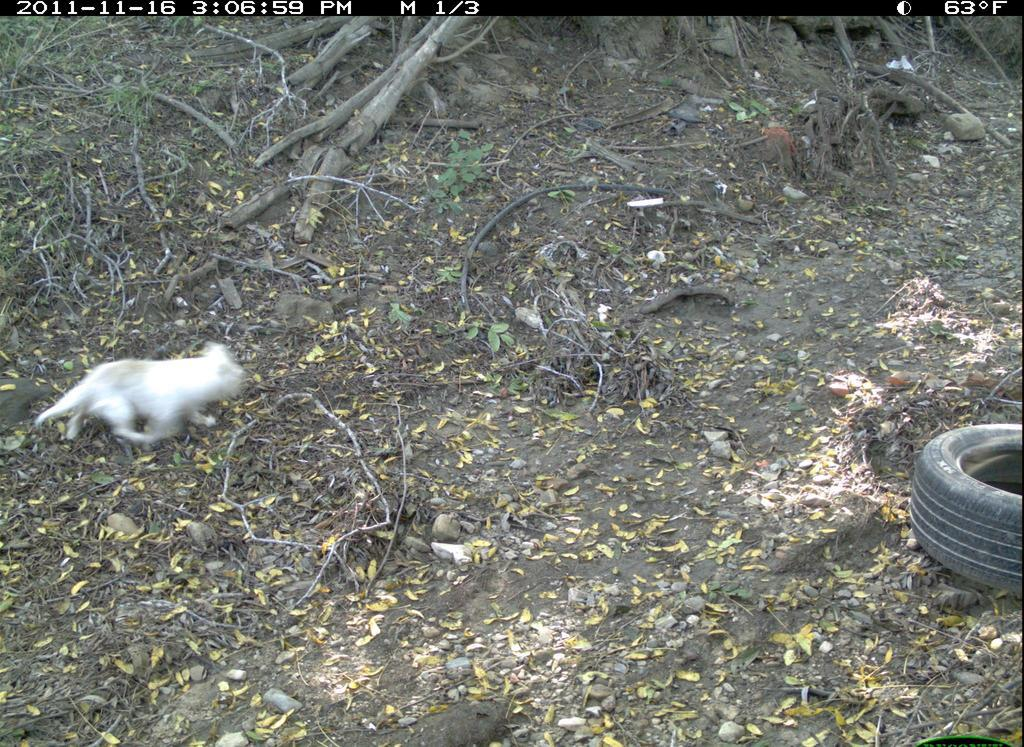dog: (26, 335, 260, 465)
